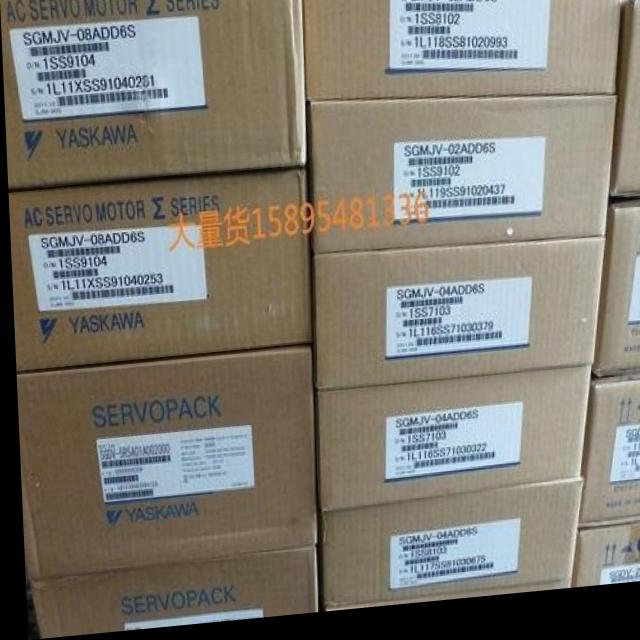box: (13, 352, 312, 586), (7, 174, 309, 371), (0, 0, 303, 189), (307, 106, 615, 257), (309, 250, 603, 395), (311, 378, 588, 519), (313, 488, 579, 618), (302, 0, 621, 107), (24, 551, 312, 639), (573, 387, 640, 541), (589, 214, 640, 388), (608, 6, 640, 211)
